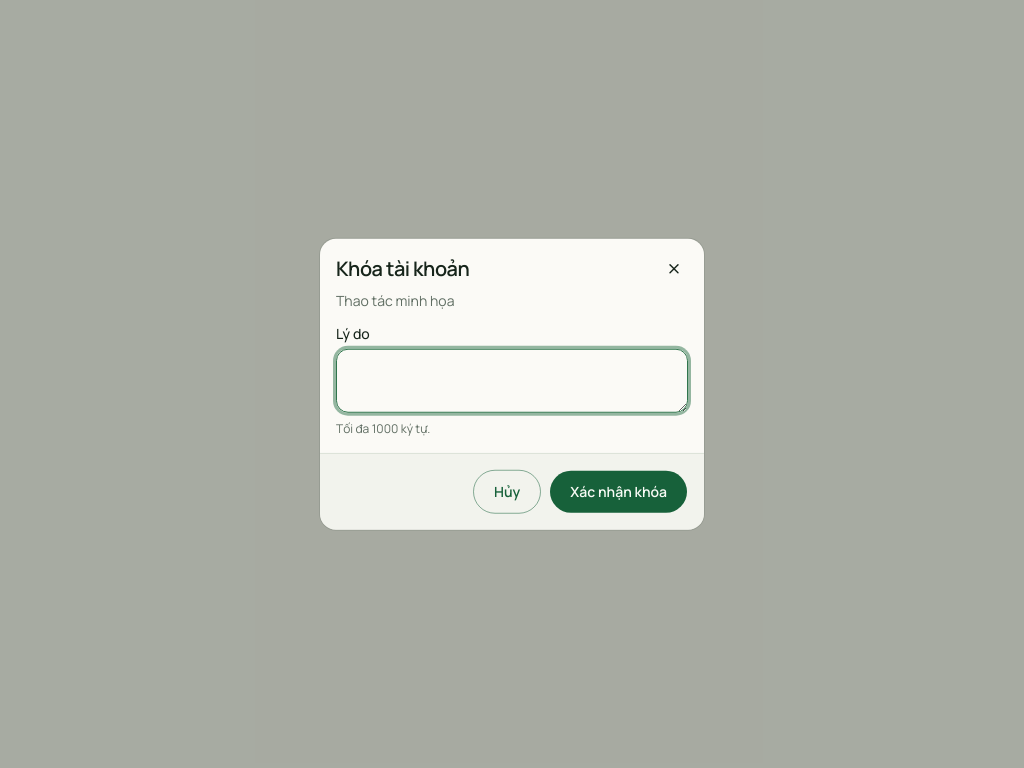
Test: Admin action confirmation › shows a fallback error for a non-Error rejection
In the text box: point(512, 380) [336,348,688,412], type "Kiểm tra"
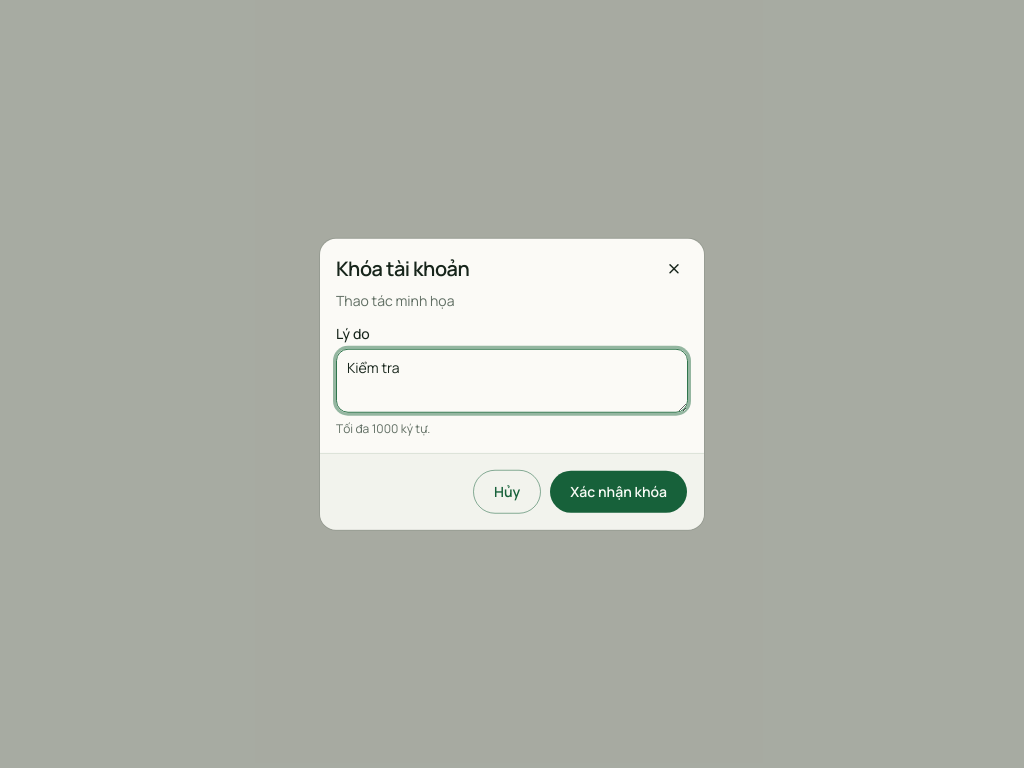
Click the button "Xác nhận khóa": point(619, 491) [549,469,688,513]
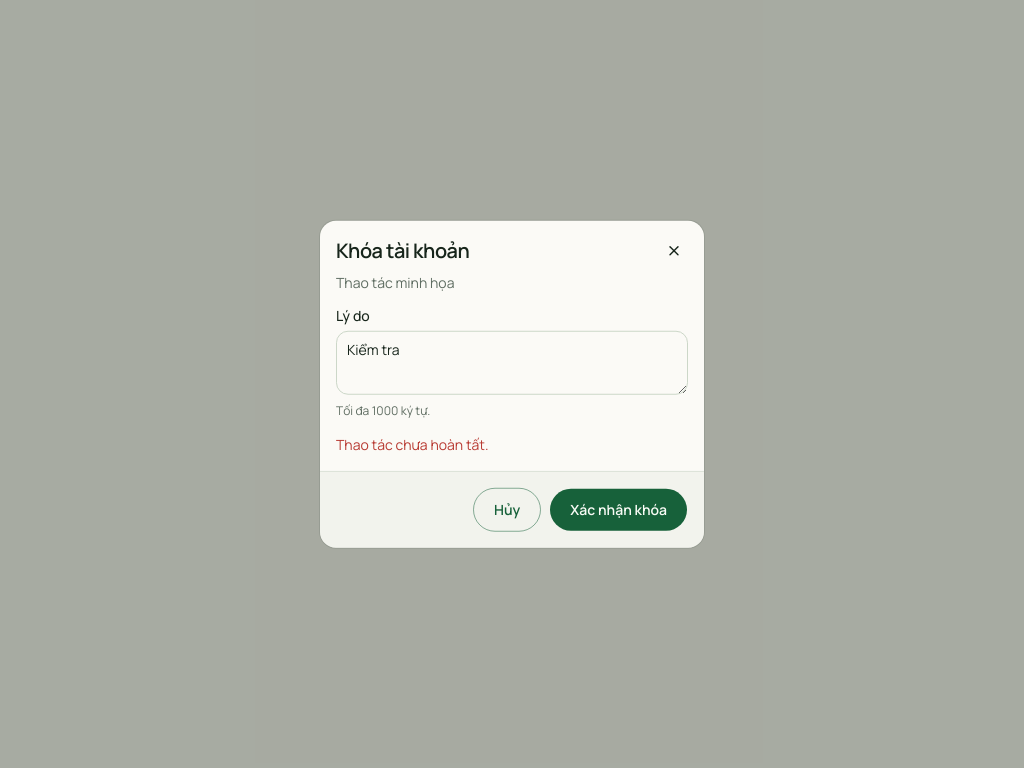
Expected: the button "Xác nhận khóa" is enabled, [549,487,688,531]
Expected: the message reads "Thao tác chưa hoàn tất.", [336,434,488,453]
